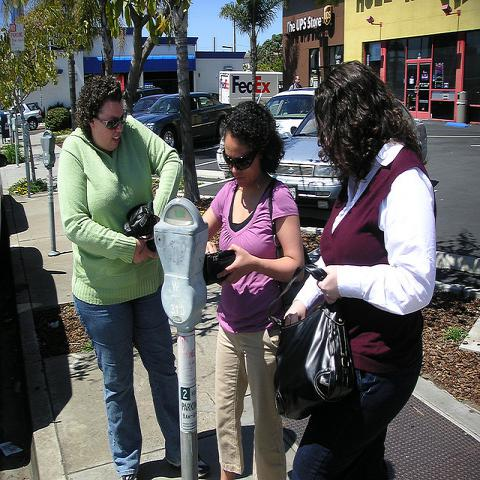car: (270, 106, 428, 220), (135, 92, 234, 151), (265, 89, 315, 140), (132, 94, 170, 118), (16, 102, 42, 131), (134, 87, 163, 103)
truck: (219, 65, 283, 105)
